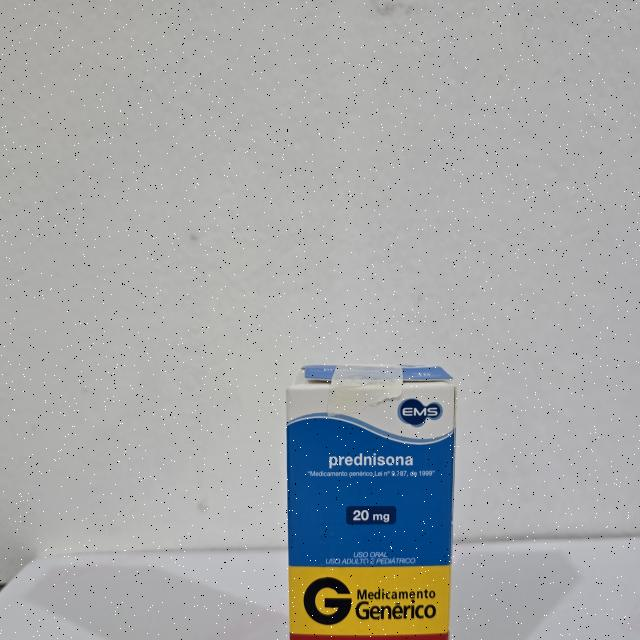prednisona: (280, 359, 461, 640)
